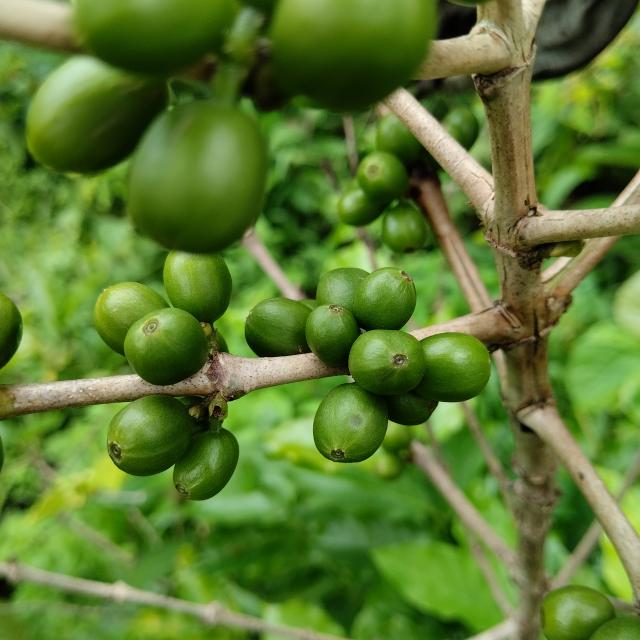green: (126, 101, 267, 252), (26, 55, 168, 173), (107, 395, 194, 477), (123, 308, 208, 386), (313, 383, 388, 463), (93, 282, 169, 356), (415, 333, 491, 402), (349, 330, 427, 395), (163, 251, 232, 324), (173, 428, 239, 501), (353, 267, 416, 331), (542, 586, 616, 640), (245, 298, 312, 357), (305, 305, 360, 367), (357, 151, 408, 204), (316, 268, 370, 312), (383, 202, 428, 253), (337, 187, 386, 226), (386, 391, 439, 426), (0, 293, 22, 369), (590, 615, 640, 640)
